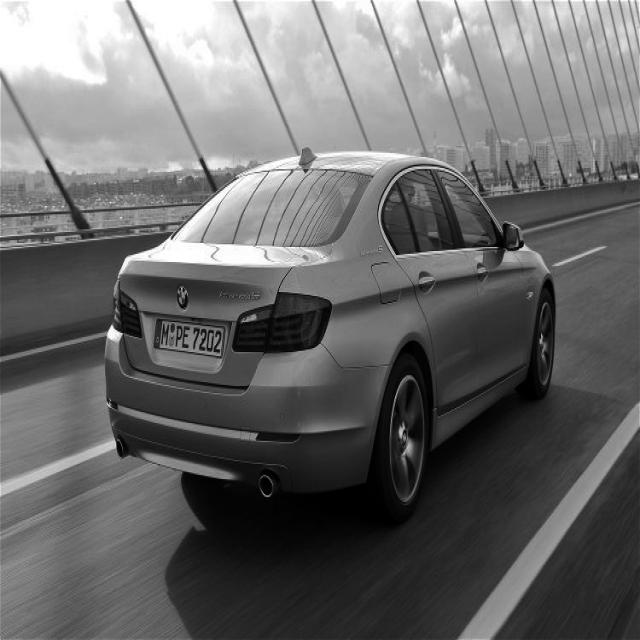car: (104, 145, 556, 524)
plat_license: (154, 316, 225, 358)
